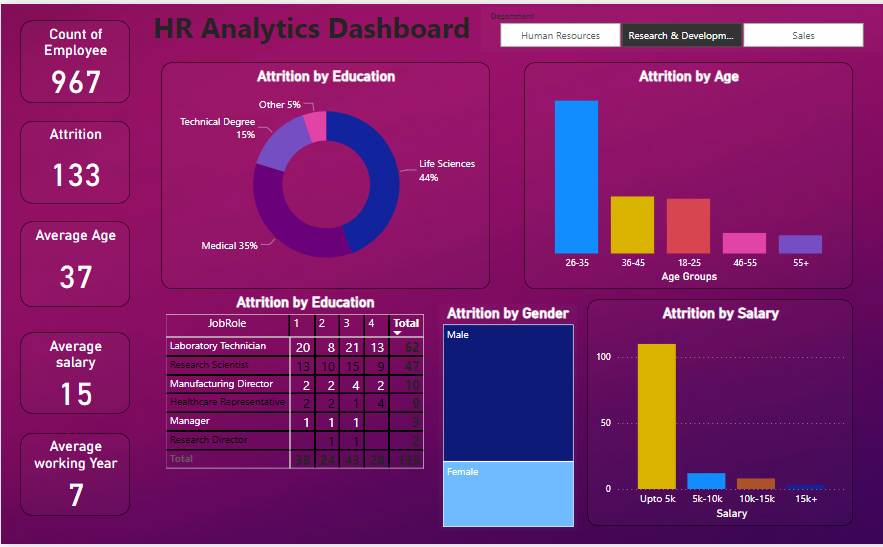

The dashboard page shown, as its layout file describes it:
{"tool":"powerbi","page":{"name":"Page 1","canvas":[1280,720],"ordinal":0},"visuals":[{"type":"textbox","box":[152,0,524,64],"z":0},{"type":"card","title":"Average Age","fields":{"Values":["Avg(HR_Analytics (1).Age)"]},"box":[26,290,146,114],"z":1000},{"type":"card","title":"Average salary","fields":{"Values":["Avg(HR_Analytics (1).PercentSalaryHike)"]},"box":[26,438,146,108],"z":2000},{"type":"card","title":"Attrition","fields":{"Values":["CountNonNull(HR_Analytics (1).AttritionCount)"]},"box":[26,156,146,110],"z":3000},{"type":"card","title":"Count of Employee","fields":{"Values":["CountNonNull(HR_Analytics (1).EmpID)"]},"box":[26,22,146,110],"z":4000},{"type":"card","title":"Average working Year","fields":{"Values":["Avg(HR_Analytics (1).YearsAtCompany)"]},"box":[26,572,146,110],"z":5000},{"type":"donutChart","title":"Attrition by Education","fields":{"Category":["HR_Analytics (1).EducationField"],"Y":["CountNonNull(HR_Analytics (1).AttritionCount)"]},"box":[214,78,438,302],"z":6000},{"type":"columnChart","title":"Attrition by Salary","fields":{"Category":["HR_Analytics (1).SalarySlab"],"Y":["CountNonNull(HR_Analytics (1).AttritionCount)"]},"box":[782,394,354,302],"z":7000},{"type":"pivotTable","title":"Attrition by Education","fields":{"Values":["CountNonNull(HR_Analytics (1).AttritionCount)"],"Rows":["HR_Analytics (1).JobRole"],"Columns":["HR_Analytics (1).JobSatisfaction"]},"box":[214,386,384,326],"z":8000},{"type":"columnChart","title":"Attrition by Age","fields":{"Category":["HR_Analytics (1).AgeGroup"],"Y":["CountNonNull(HR_Analytics (1).AttritionCount)"]},"box":[698,78,438,302],"z":9000},{"type":"treemap","title":"Attrition by Gender","fields":{"Group":["HR_Analytics (1).Gender"],"Values":["CountNonNull(HR_Analytics (1).AttritionCount)"]},"box":[584,400,184,302],"z":10000},{"type":"slicer","fields":{"Values":["HR_Analytics (1).Department"]},"box":[640,4,534,60],"z":10001}]}

Visuals, with their boxes on the page's 1280x720 design canvas (x1, y1, x2, y2). These are canvas units, not pixel positions in the 883x547 screenshot, which may show the page scaled, cropped or inside an application window:
textbox: (left=152, top=0, right=676, bottom=64)
"Average Age" card: (left=26, top=290, right=172, bottom=404)
"Average salary" card: (left=26, top=438, right=172, bottom=546)
"Attrition" card: (left=26, top=156, right=172, bottom=266)
"Count of Employee" card: (left=26, top=22, right=172, bottom=132)
"Average working Year" card: (left=26, top=572, right=172, bottom=682)
"Attrition by Education" donutChart: (left=214, top=78, right=652, bottom=380)
"Attrition by Salary" columnChart: (left=782, top=394, right=1136, bottom=696)
"Attrition by Education" pivotTable: (left=214, top=386, right=598, bottom=712)
"Attrition by Age" columnChart: (left=698, top=78, right=1136, bottom=380)
"Attrition by Gender" treemap: (left=584, top=400, right=768, bottom=702)
slicer - HR_Analytics (1).Department: (left=640, top=4, right=1174, bottom=64)
